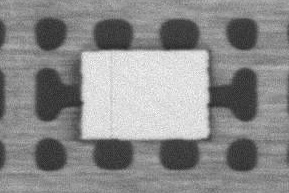DIE_CRACK: (107, 51, 114, 138)
